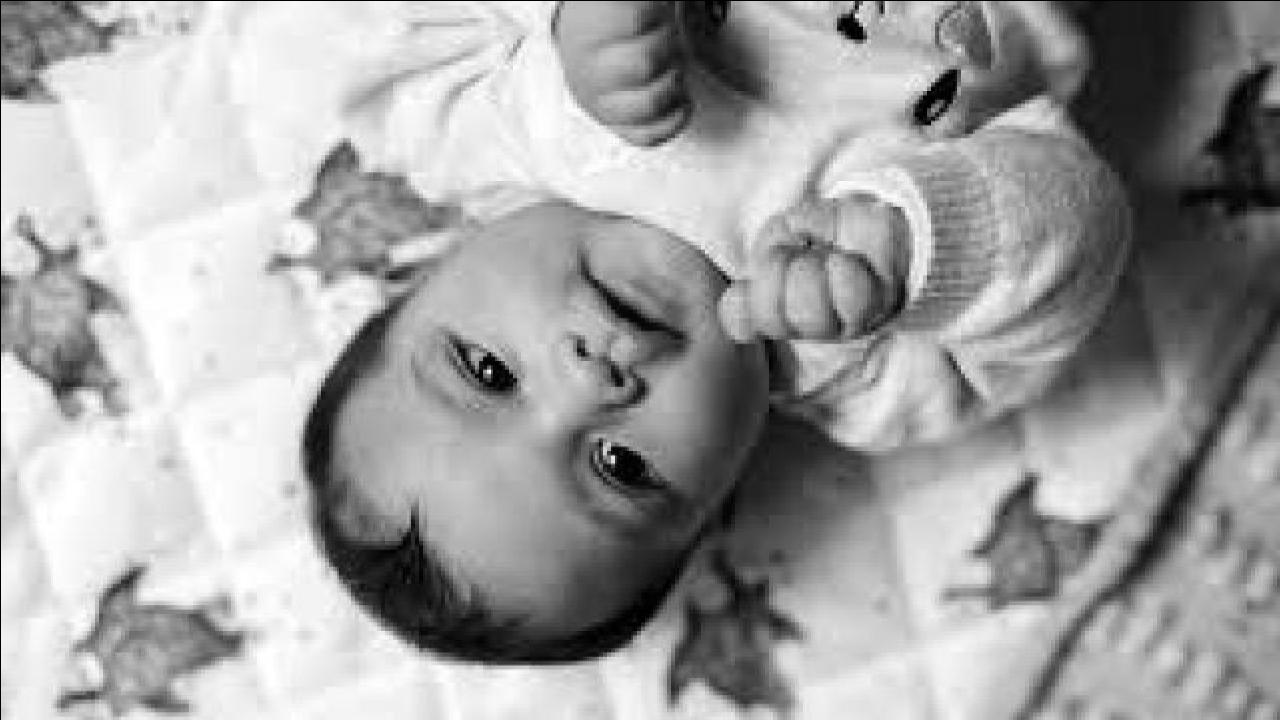hand: (712, 206, 904, 340), (556, 0, 696, 150)
